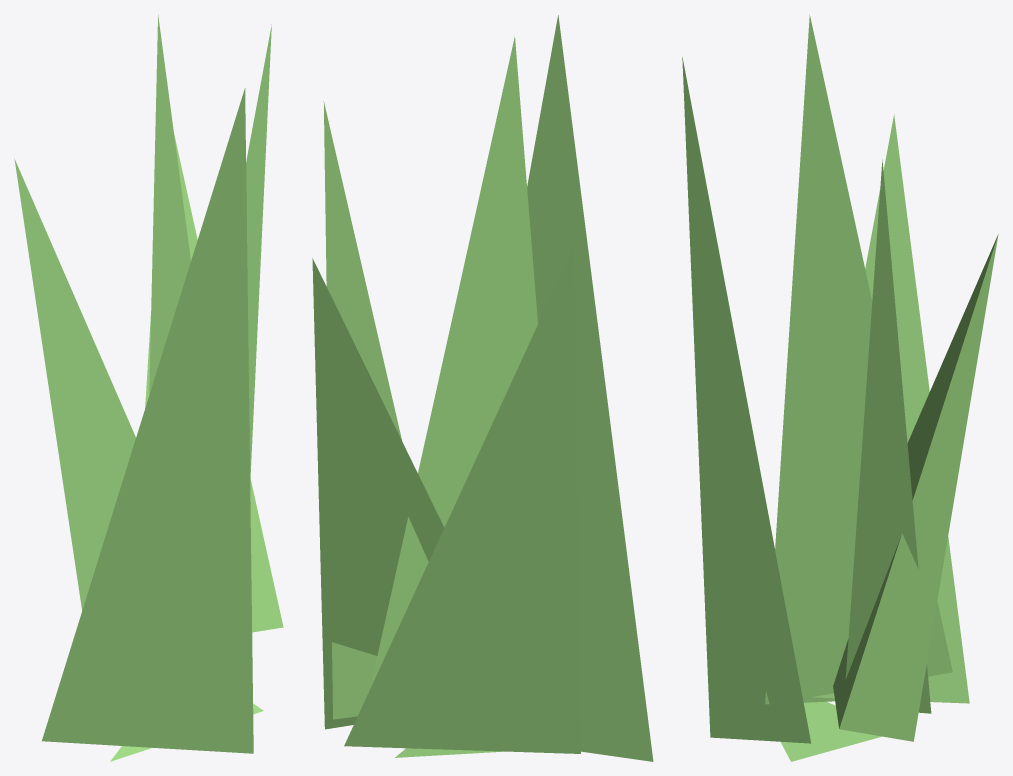
Rendered from grass.fbx.
The picture shows the model from 3 angles, left to right: view 1: azimuth 30°, elevation 25°; view 2: azimuth 150°, elevation 25°; view 3: azimuth 270°, elevation 25°; orthographic projection. The views are drawn at different scales.
Visible parts, largest first — view 1: Cone.002; view 2: Cone.002; view 3: Cone.002.
Part boxes in pixels (bbox=[...]): Cone.002: bbox=[14, 14, 283, 761]; Cone.002: bbox=[312, 15, 653, 761]; Cone.002: bbox=[682, 14, 998, 761].
Bounding box in the file's own units: 46.26 × 114 × 46.54.
